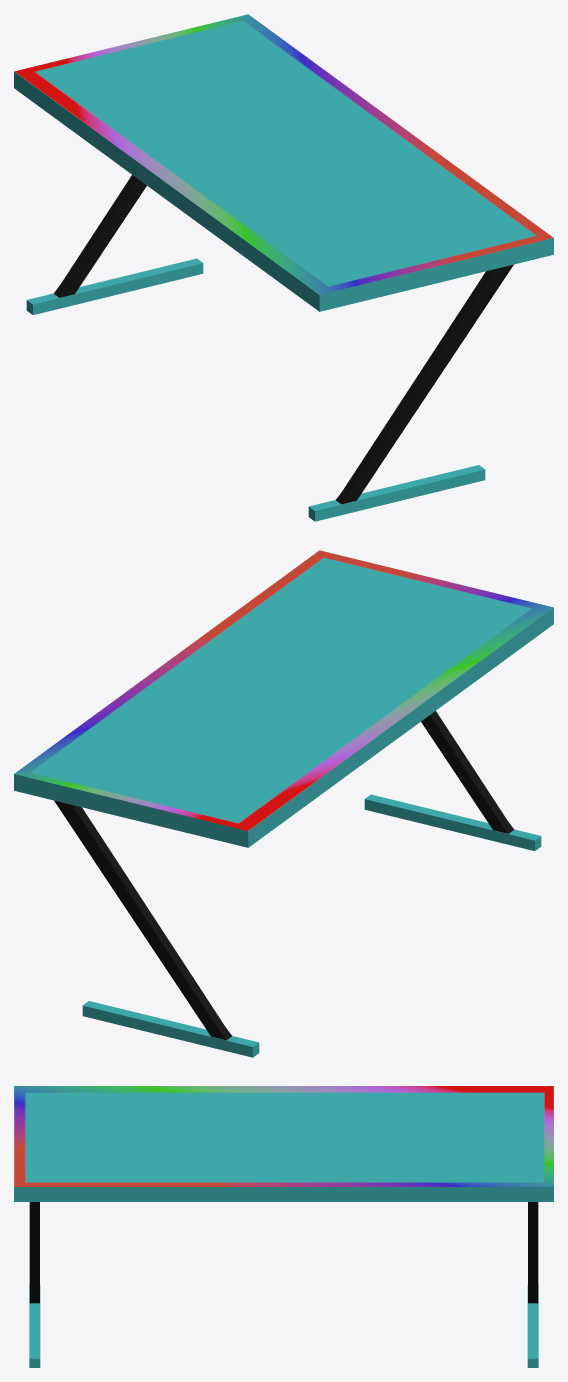
File: tableDiamond.fbx
3 views of the same model, one above another, from view 1: azimuth 30°, elevation 25°; view 2: azimuth 150°, elevation 25°; view 3: azimuth 270°, elevation 25° (orthographic). The views are drawn at different scales.
Visible parts, largest first — view 1: Table; view 2: Table; view 3: Table.
Part boxes in pixels (bbox=[...]): Table: bbox=[14, 14, 553, 521]; Table: bbox=[14, 550, 553, 1057]; Table: bbox=[14, 1086, 553, 1367].
Size of the model in its own units: 4.18 by 9.44 by 3.98.
